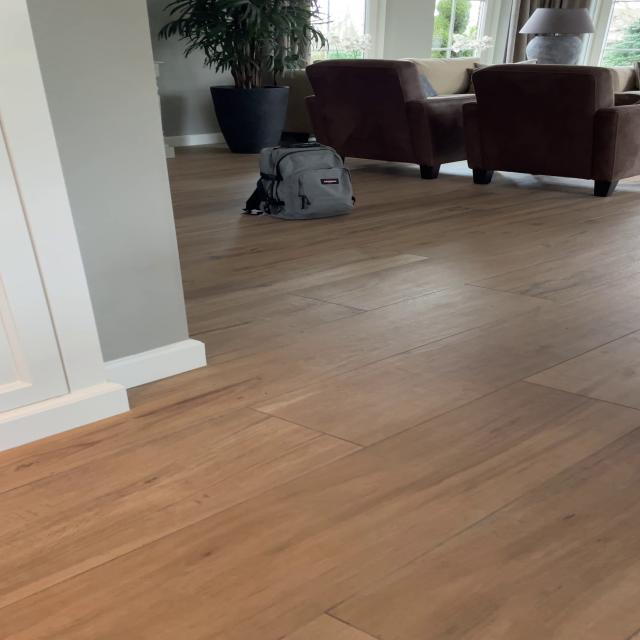backpack: (240, 132, 360, 224)
